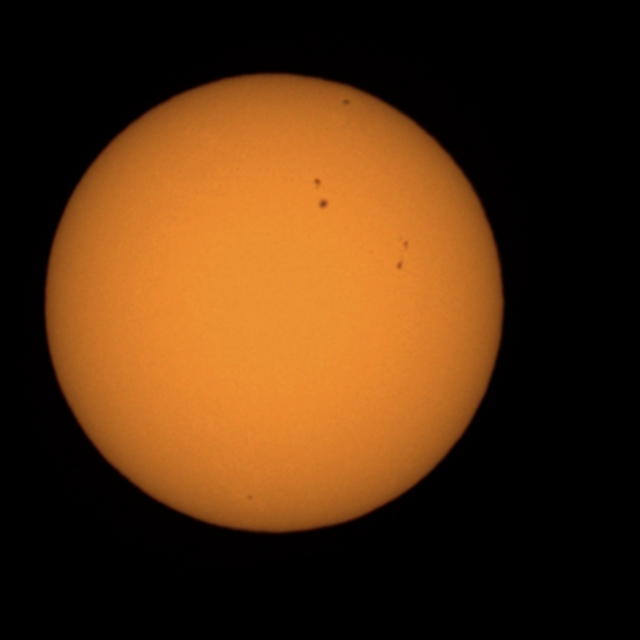sunspot: (394, 237, 411, 270), (398, 237, 411, 253), (317, 197, 330, 211), (312, 177, 323, 190), (394, 259, 404, 272), (340, 97, 352, 107), (245, 493, 254, 502)
